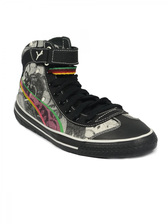shoes: (14, 35, 162, 162)
